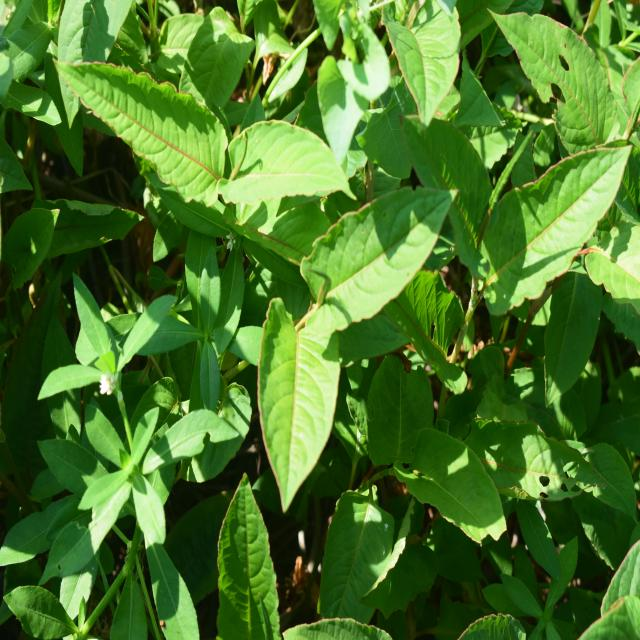Chinese_knotweed: (250, 189, 460, 483), (59, 50, 350, 236)
